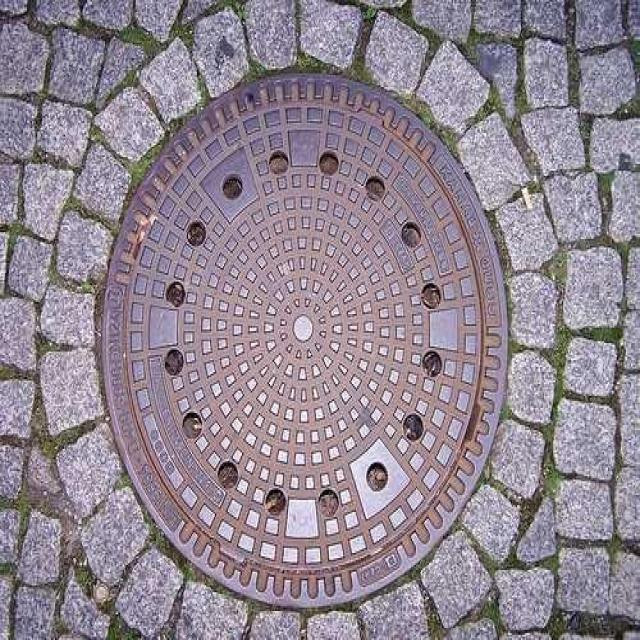manhole: (95, 73, 511, 609)
